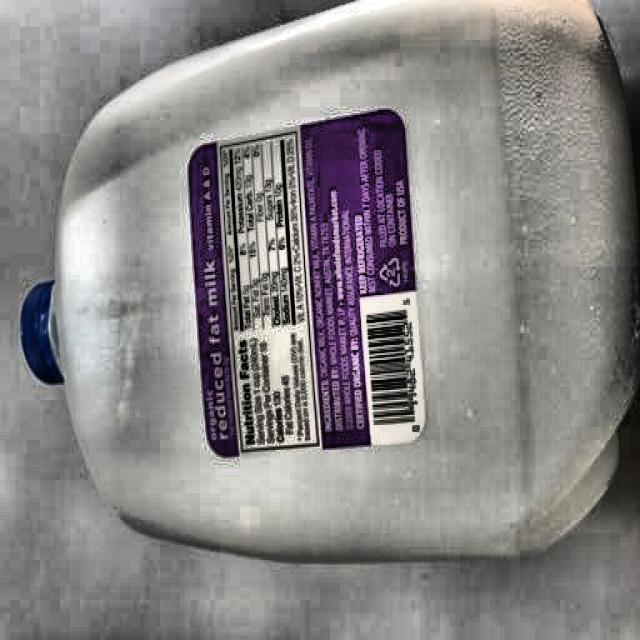plastic: (23, 0, 638, 563)
